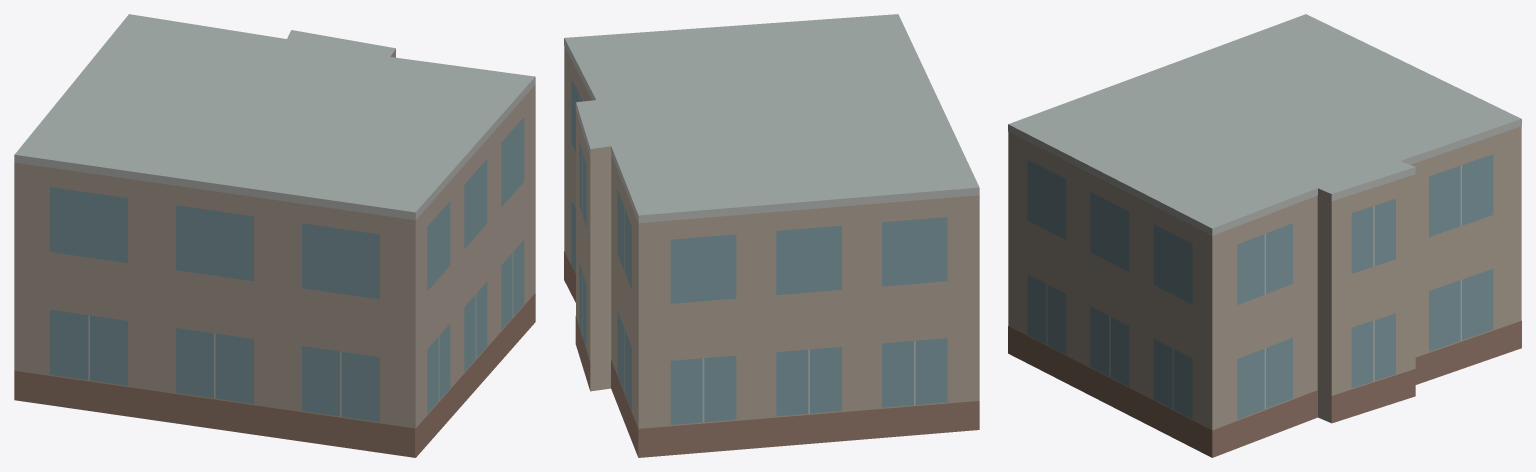
File: survey-upis-32638125.glb
3 views of the same model, side by side, from view 1: azimuth 30°, elevation 25°; view 2: azimuth 150°, elevation 25°; view 3: azimuth 270°, elevation 25° (orthographic). The views are drawn at different scales.
Visible parts, largest first — view 1: survey-upis-32638125.tmp; view 2: survey-upis-32638125.tmp; view 3: survey-upis-32638125.tmp.
Boxes of the visible parts, x1,y1,x2,y2 form: survey-upis-32638125.tmp: (14, 14, 535, 457); survey-upis-32638125.tmp: (564, 14, 979, 457); survey-upis-32638125.tmp: (1008, 14, 1521, 457).
Size of the model in its own units: 15.47 by 7.7 by 15.65.
